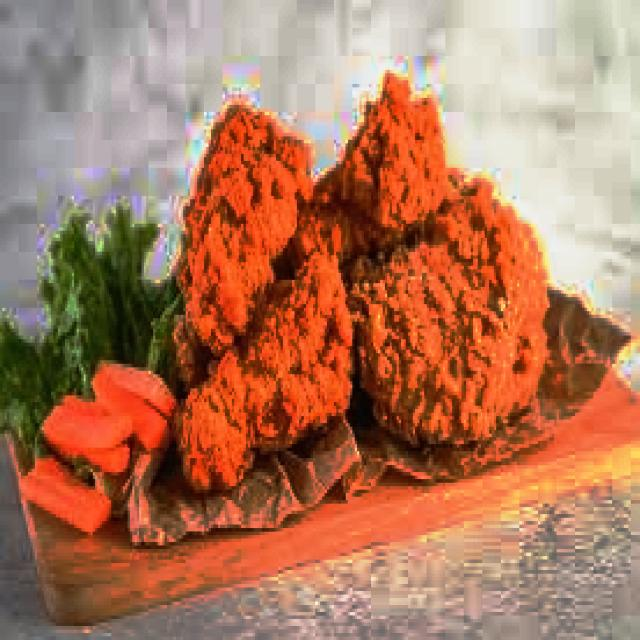fried_chicken: (343, 187, 549, 446), (179, 248, 350, 490), (176, 105, 308, 388), (316, 77, 446, 301)
